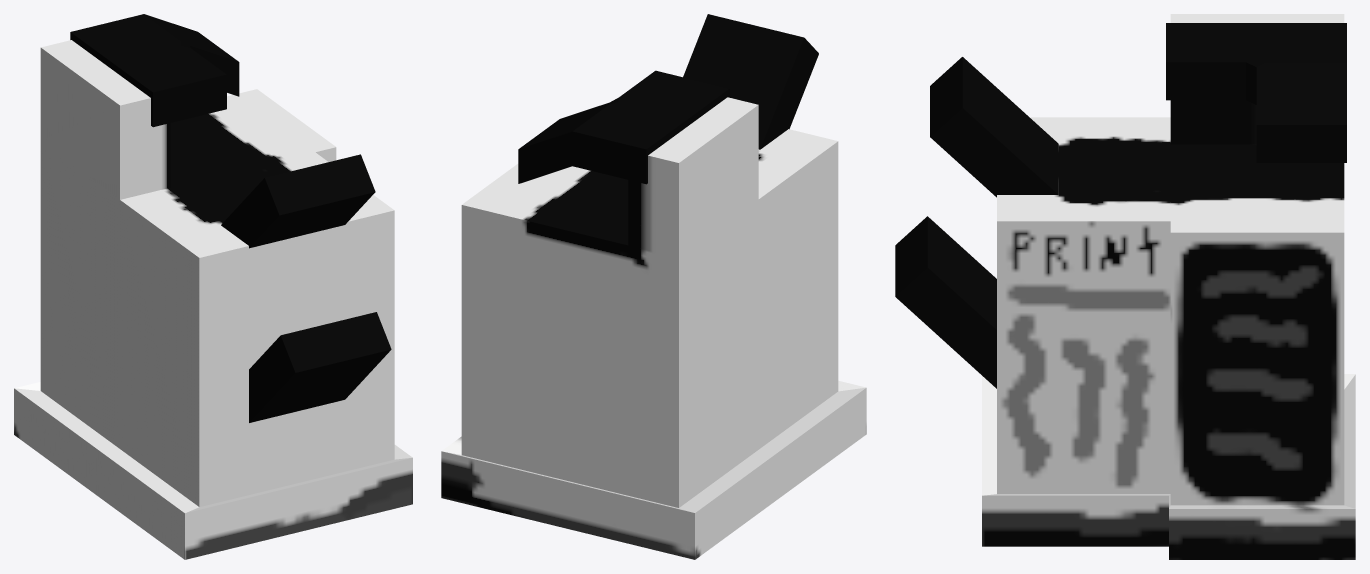
Rendered from printer.glb.
3 views of the same model, side by side, from view 1: azimuth 30°, elevation 25°; view 2: azimuth 150°, elevation 25°; view 3: azimuth 270°, elevation 25° (orthographic). The views are drawn at different scales.
Parts seen in each view (by area): view 1: Cube, Cube.003, Cube.002, Cube.001; view 2: Cube, Cube.003, Cube.001; view 3: Cube, Cube.003, Cube.001, Cube.002.
Boxes of the visible parts, box(x1,y1,x2,y2) form: Cube: box(14, 40, 412, 559); Cube.003: box(70, 14, 239, 127); Cube.002: box(249, 312, 391, 422); Cube.001: box(221, 154, 375, 248); Cube: box(441, 97, 866, 559); Cube.003: box(518, 70, 729, 184); Cube.001: box(683, 14, 818, 149); Cube: box(982, 14, 1355, 559); Cube.003: box(1166, 23, 1346, 162); Cube.001: box(930, 57, 1058, 197); Cube.002: box(895, 216, 996, 388).
Size of the model in its own units: 0.7433 by 1.1 by 1.07.
2 materials, 1 textured.
